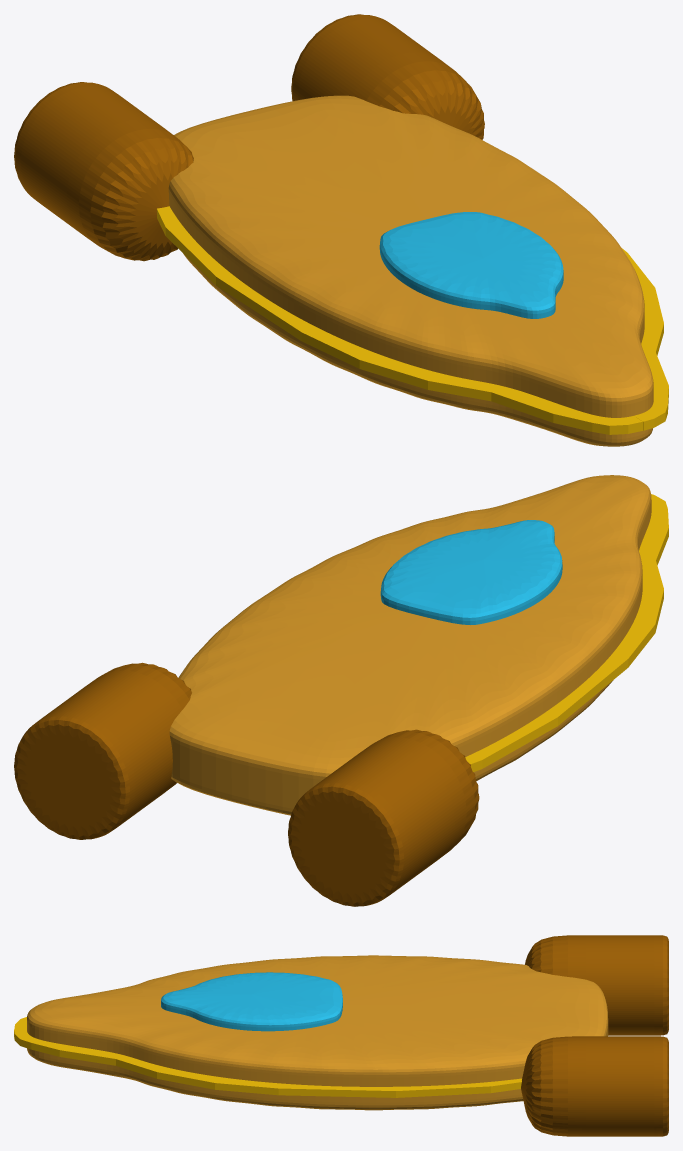
File: player2Model.fbx
3 views of the same model, one above another, from view 1: azimuth 30°, elevation 25°; view 2: azimuth 150°, elevation 25°; view 3: azimuth 270°, elevation 25° (orthographic). The views are drawn at different scales.
Visible parts, largest first — view 1: ShipBody, Thruster-R, Cockpit, Thruster-L, GlowRim; view 2: ShipBody, Thruster-R, Thruster-L, Cockpit, GlowRim; view 3: ShipBody, Thruster-L, Thruster-R, Cockpit, GlowRim.
Boxes of the visible parts, x1,y1,x2,y2 form: ShipBody: (168, 95, 653, 446); Thruster-R: (14, 82, 193, 261); Cockpit: (379, 212, 563, 318); Thruster-L: (291, 14, 484, 139); GlowRim: (156, 206, 668, 434); ShipBody: (169, 475, 651, 815); Thruster-R: (288, 729, 479, 906); Thruster-L: (14, 662, 191, 839); Cockpit: (380, 520, 562, 624); GlowRim: (465, 494, 668, 772); ShipBody: (27, 955, 608, 1110); Thruster-L: (521, 1036, 668, 1136); Thruster-R: (525, 935, 668, 1035); Cockpit: (161, 972, 342, 1031); GlowRim: (14, 1017, 521, 1097).
Size of the model in its own units: 146 by 43.27 by 282.
